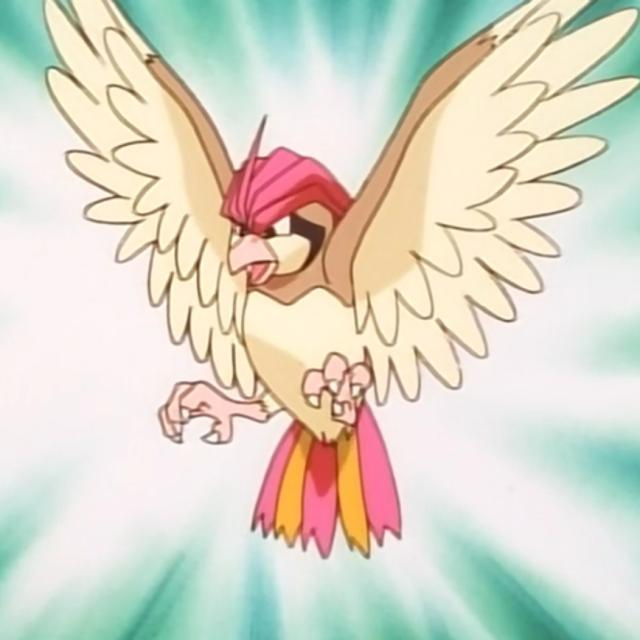Pidgeotto: (131, 31, 511, 550)
